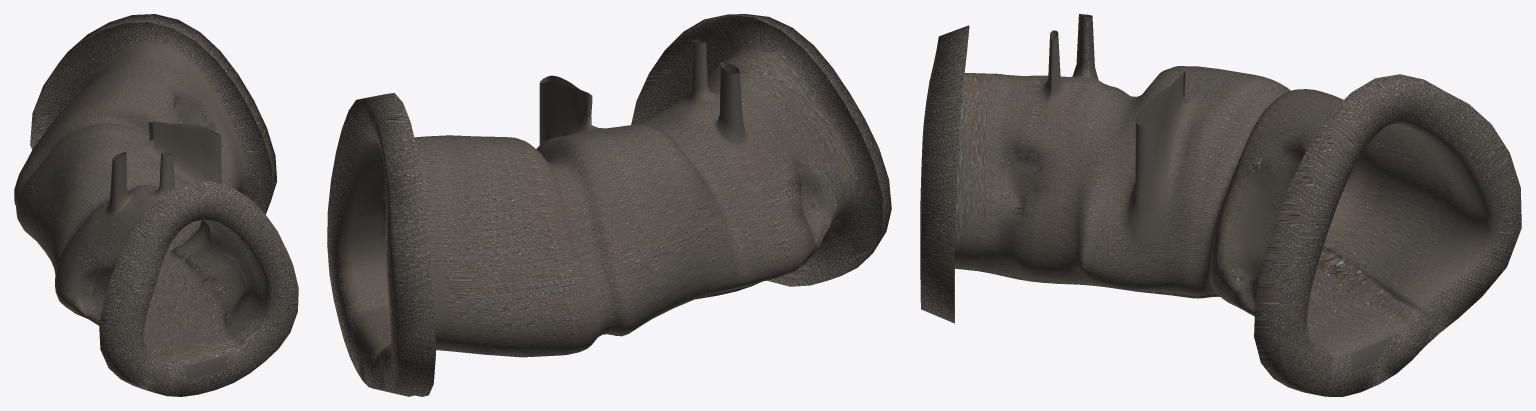
The model's file is cave_tunnel_turn_02_light.dae.
The picture shows the model from 3 angles, left to right: view 1: azimuth 30°, elevation 25°; view 2: azimuth 150°, elevation 25°; view 3: azimuth 270°, elevation 25°; orthographic projection. The views are drawn at different scales.
Visible parts, largest first — view 1: tunnel_turn_02_light; view 2: tunnel_turn_02_light; view 3: tunnel_turn_02_light.
Part boxes in pixels (left/top/right/bottom): tunnel_turn_02_light: left=14, top=14, right=298, bottom=396; tunnel_turn_02_light: left=327, top=14, right=891, bottom=396; tunnel_turn_02_light: left=920, top=14, right=1521, bottom=396.
Size of what is drawn, in the model's own units: 9.42 by 6.7 by 12.37.
